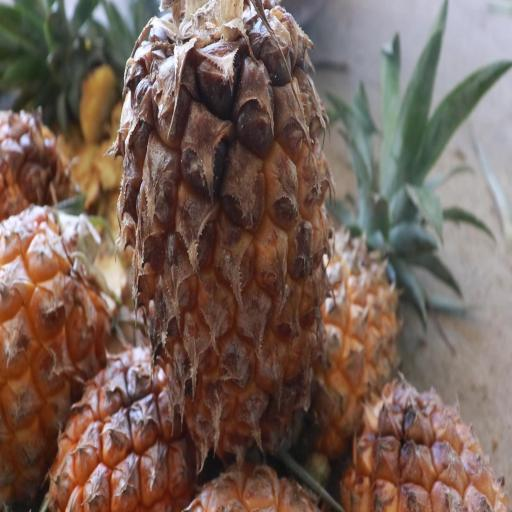Pineapple - v8 v1: (116, 0, 338, 465), (0, 194, 126, 512), (304, 204, 424, 474), (53, 337, 202, 512), (342, 380, 512, 512)
